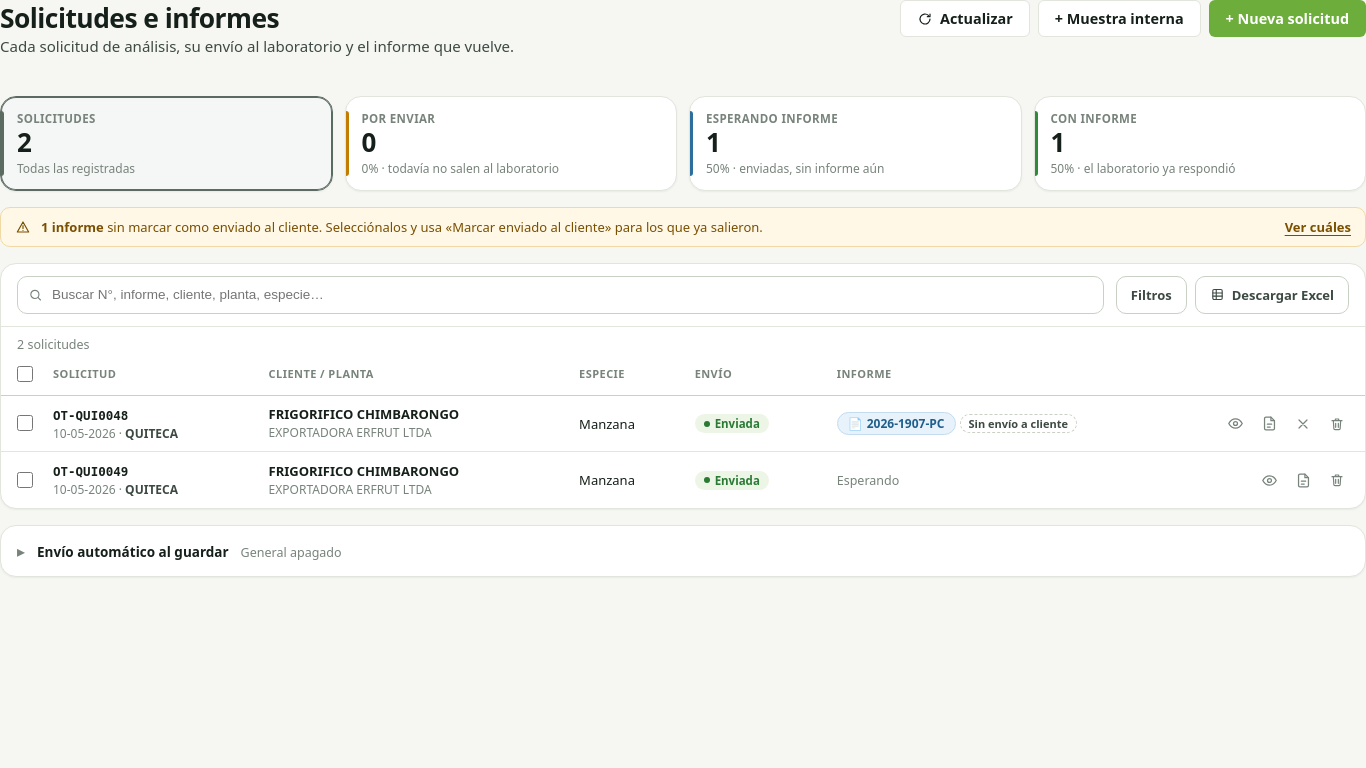
Test case: Solicitudes e informes: quitar el informe › pide la contraseña, la manda al servidor y avisa lo que se borró
The image size is (1366, 768).
Click the button named "Quitar informe": x=1303, y=424 [1287, 408, 1319, 440]
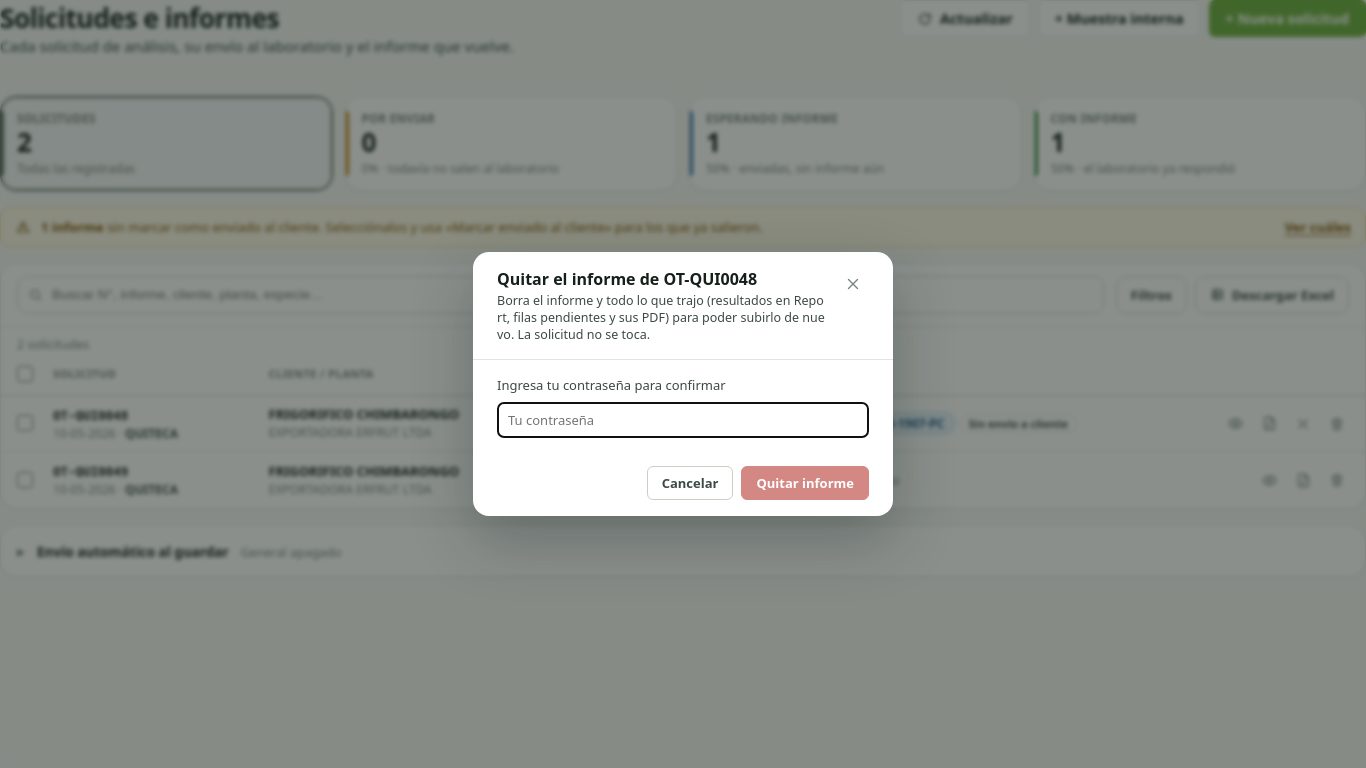
Now the text "La solicitud no se toca" is shown, box [497, 292, 825, 343]
In the password field labelled "Ingresa tu contraseña para confirmar": x=683, y=420 [497, 402, 869, 438], type "mi-clave"
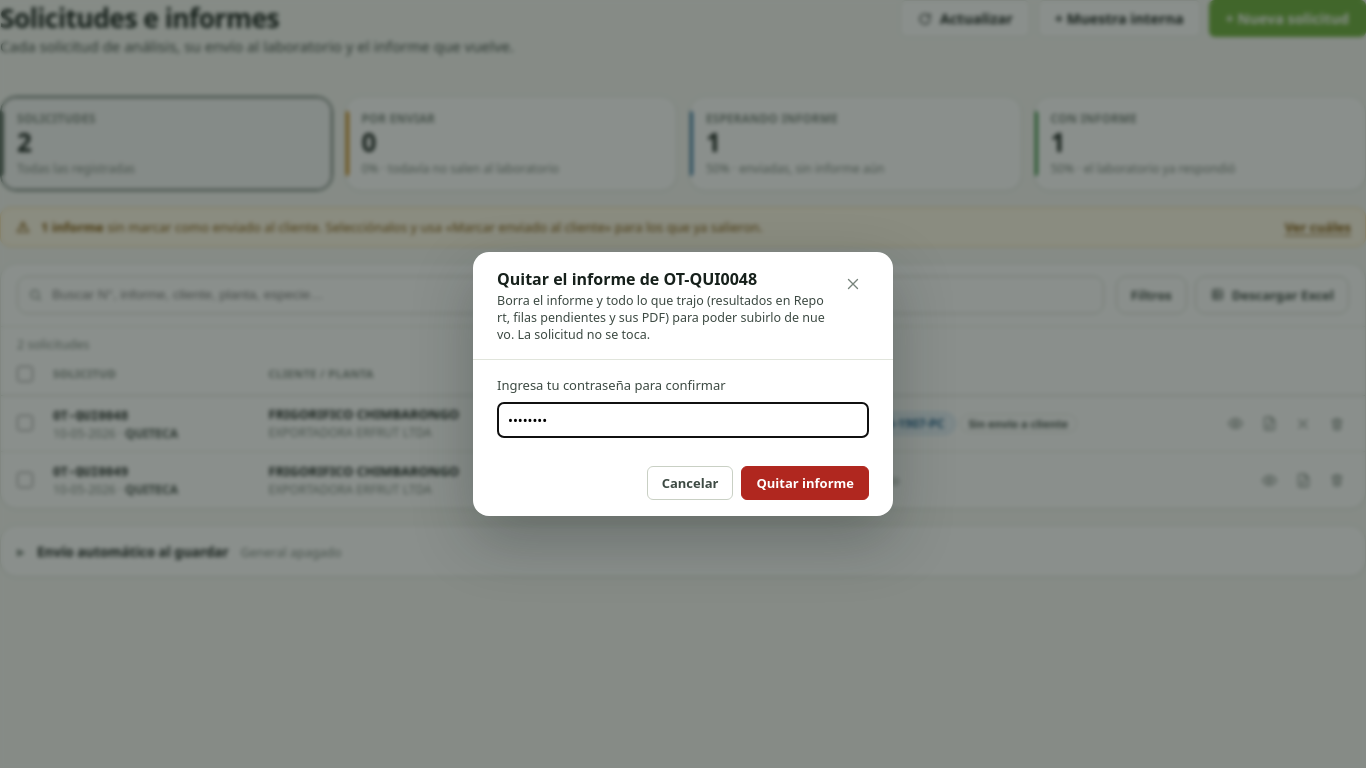
Click the button "Quitar informe": x=805, y=483 [741, 466, 869, 500]
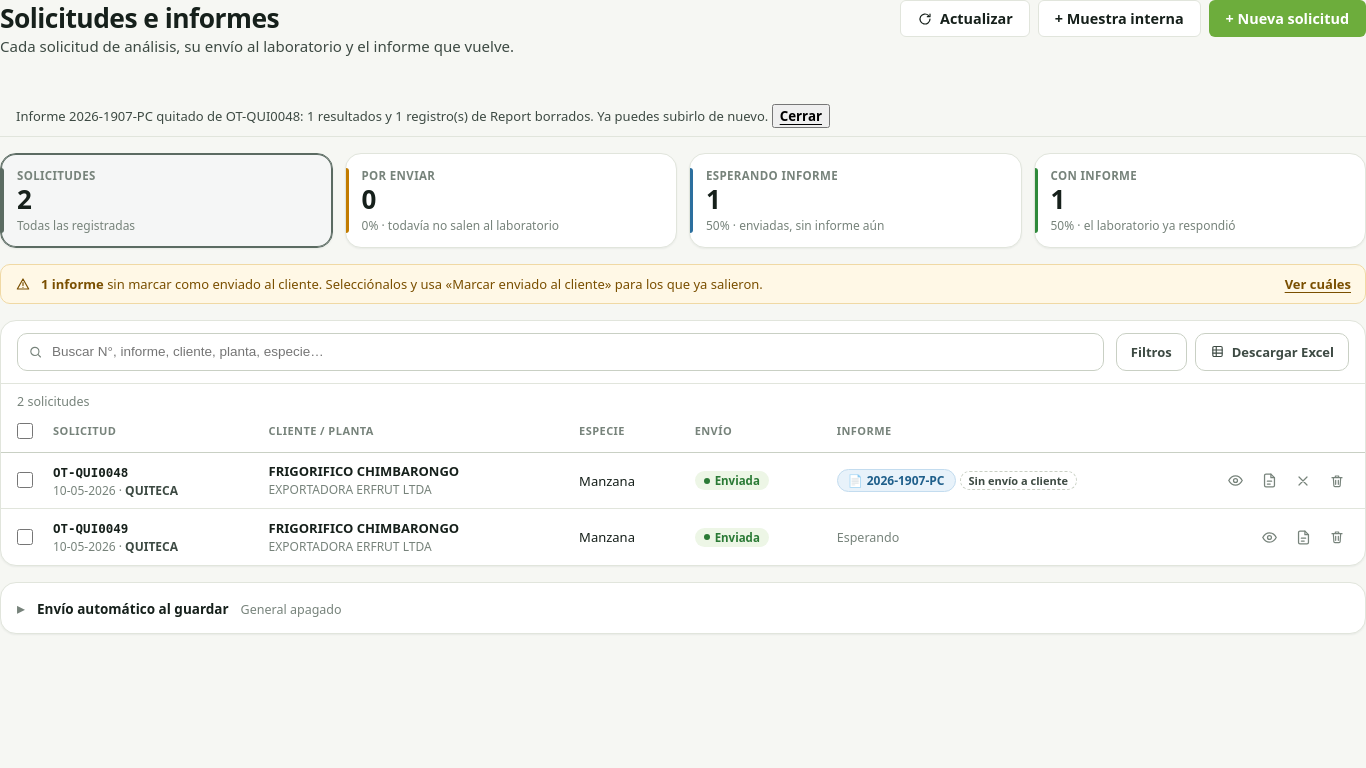
Now the text "1 resultados y 1 registro(s) de Report borrados" is shown, box [16, 107, 768, 125]
